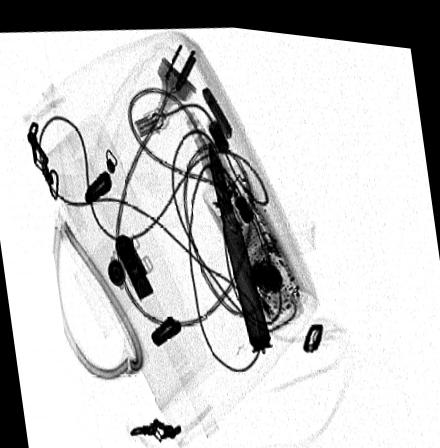Bullet: (206, 131, 272, 348)
